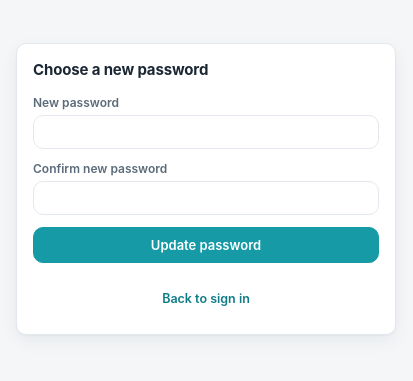
Test case: ResetPasswordPage › submit_WhenPasswordsDoNotMatch_ShouldShowAValidationAlertAndNotCallSupabase
Type "brand-new-password" into the password field labelled "New password" at (206, 132), box [33,115,379,149]
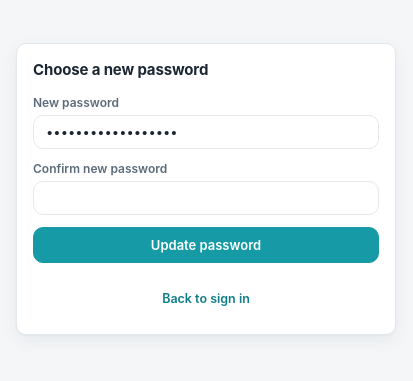
Type "different-password" into the password field labelled "Confirm new password" at (206, 198), box [33,181,379,215]
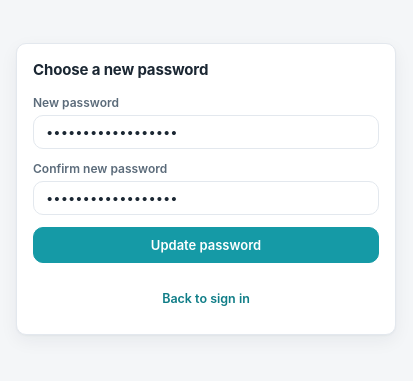
Click the button "Update password" at (206, 245), box [33,227,379,263]
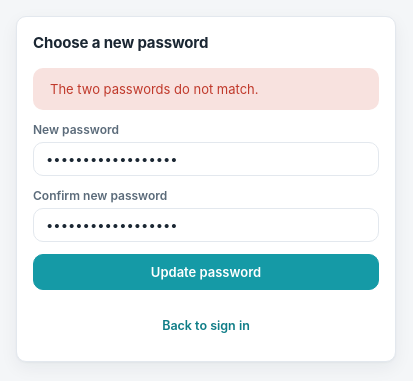
Result: the message shows "do not match" at [50,81,258,97]
